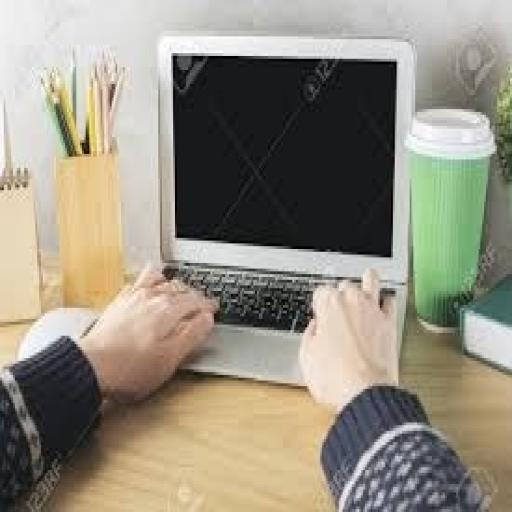using_laptop: (153, 28, 415, 389)
